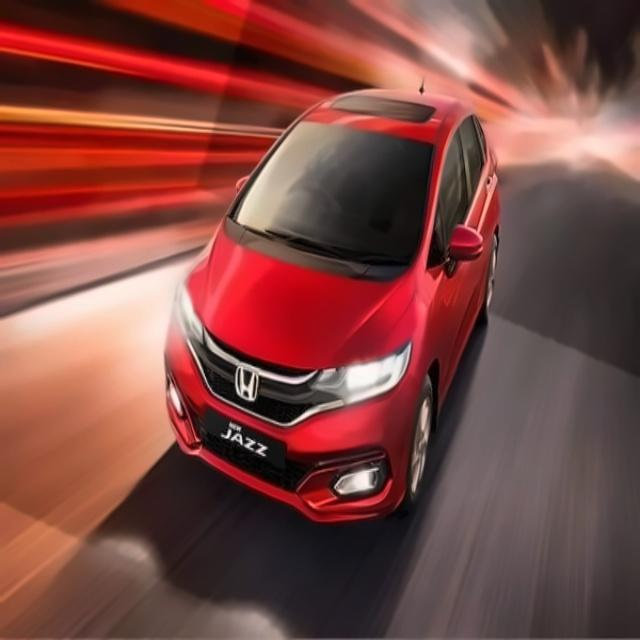Car hood: (182, 223, 416, 369)
Fender - -F-R-: (437, 285, 491, 425)
Front bumper: (151, 327, 412, 523)
Headlight - -L-: (308, 341, 413, 402)
Headlight - -R-: (170, 279, 204, 349)
Passenger-s door - -F-L-: (422, 94, 479, 437)
Side mirror - -L-: (438, 226, 485, 278)
